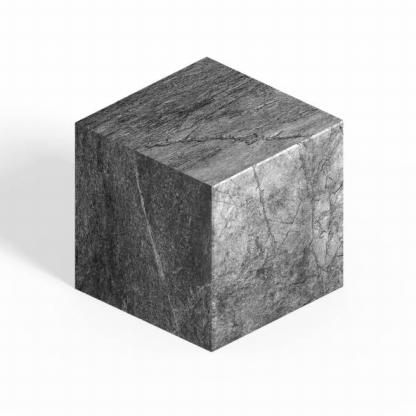Metamorphic_Marble: (44, 45, 370, 353)
